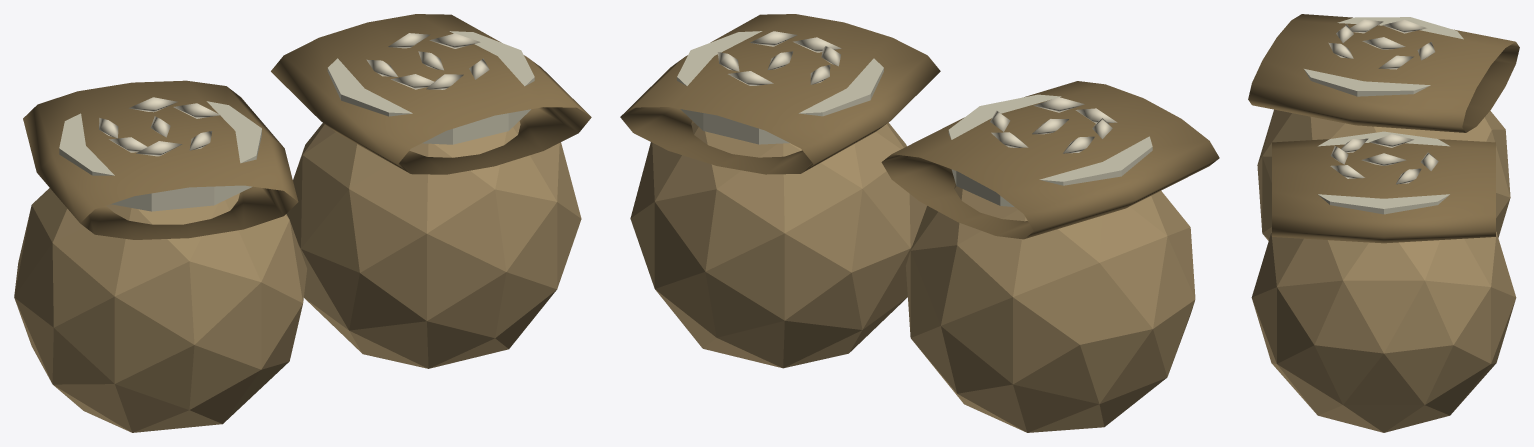
The model's file is pile-milledRice-2.gltf.
3 views of the same model, side by side, from view 1: azimuth 30°, elevation 25°; view 2: azimuth 150°, elevation 25°; view 3: azimuth 270°, elevation 25° (orthographic). The views are drawn at different scales.
Visible parts, largest first — view 1: pile-milledRice-2; view 2: pile-milledRice-2; view 3: pile-milledRice-2.
Part boxes in pixels (box(x1,y1,x2,y2)): pile-milledRice-2: box(14, 14, 591, 432); pile-milledRice-2: box(620, 14, 1219, 432); pile-milledRice-2: box(1248, 14, 1519, 432).
Size of the model in its own units: 0.5257 by 0.2915 by 0.267.
